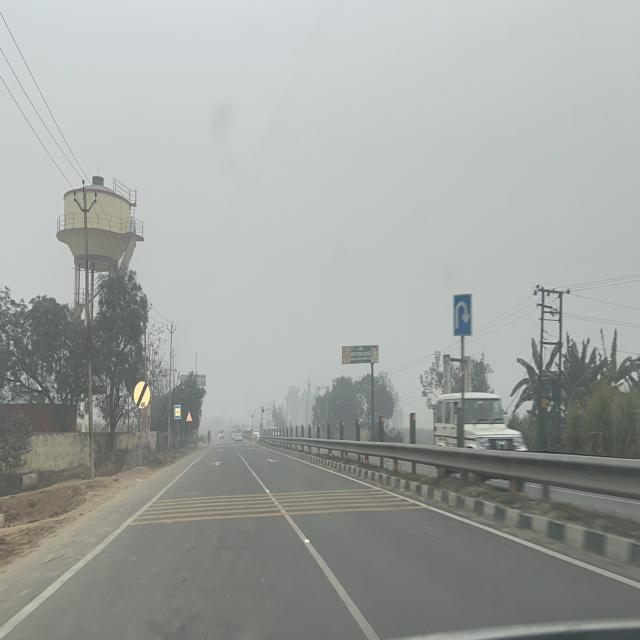INFORMATION: (174, 404, 181, 420)
PEDESTRIAN_CROSSING: (185, 411, 192, 422)
U_TURN: (453, 292, 472, 336)
